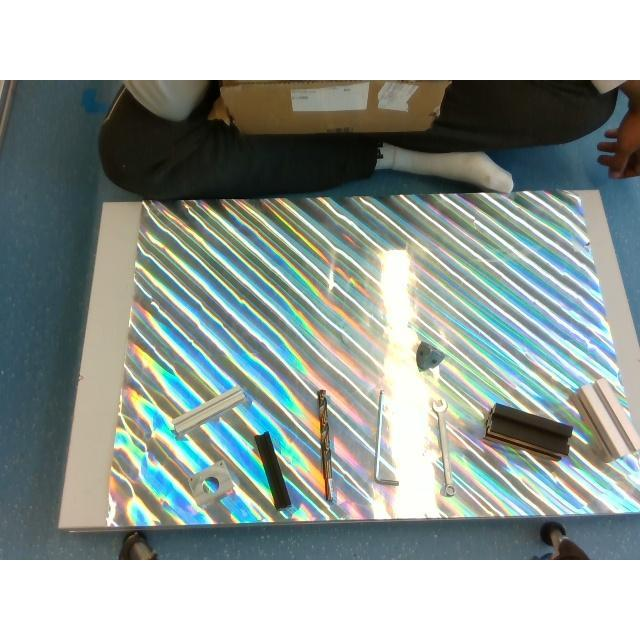Drill: (317, 389, 333, 501)
F20_20_B: (253, 430, 290, 510)
F20_20_G: (172, 386, 252, 438)
S40_40_B: (484, 403, 572, 459)
S40_40_G: (575, 378, 639, 460)
